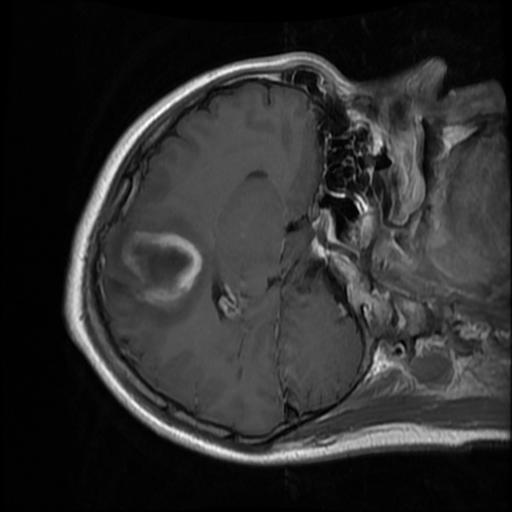glioma: (121, 231, 202, 304)
